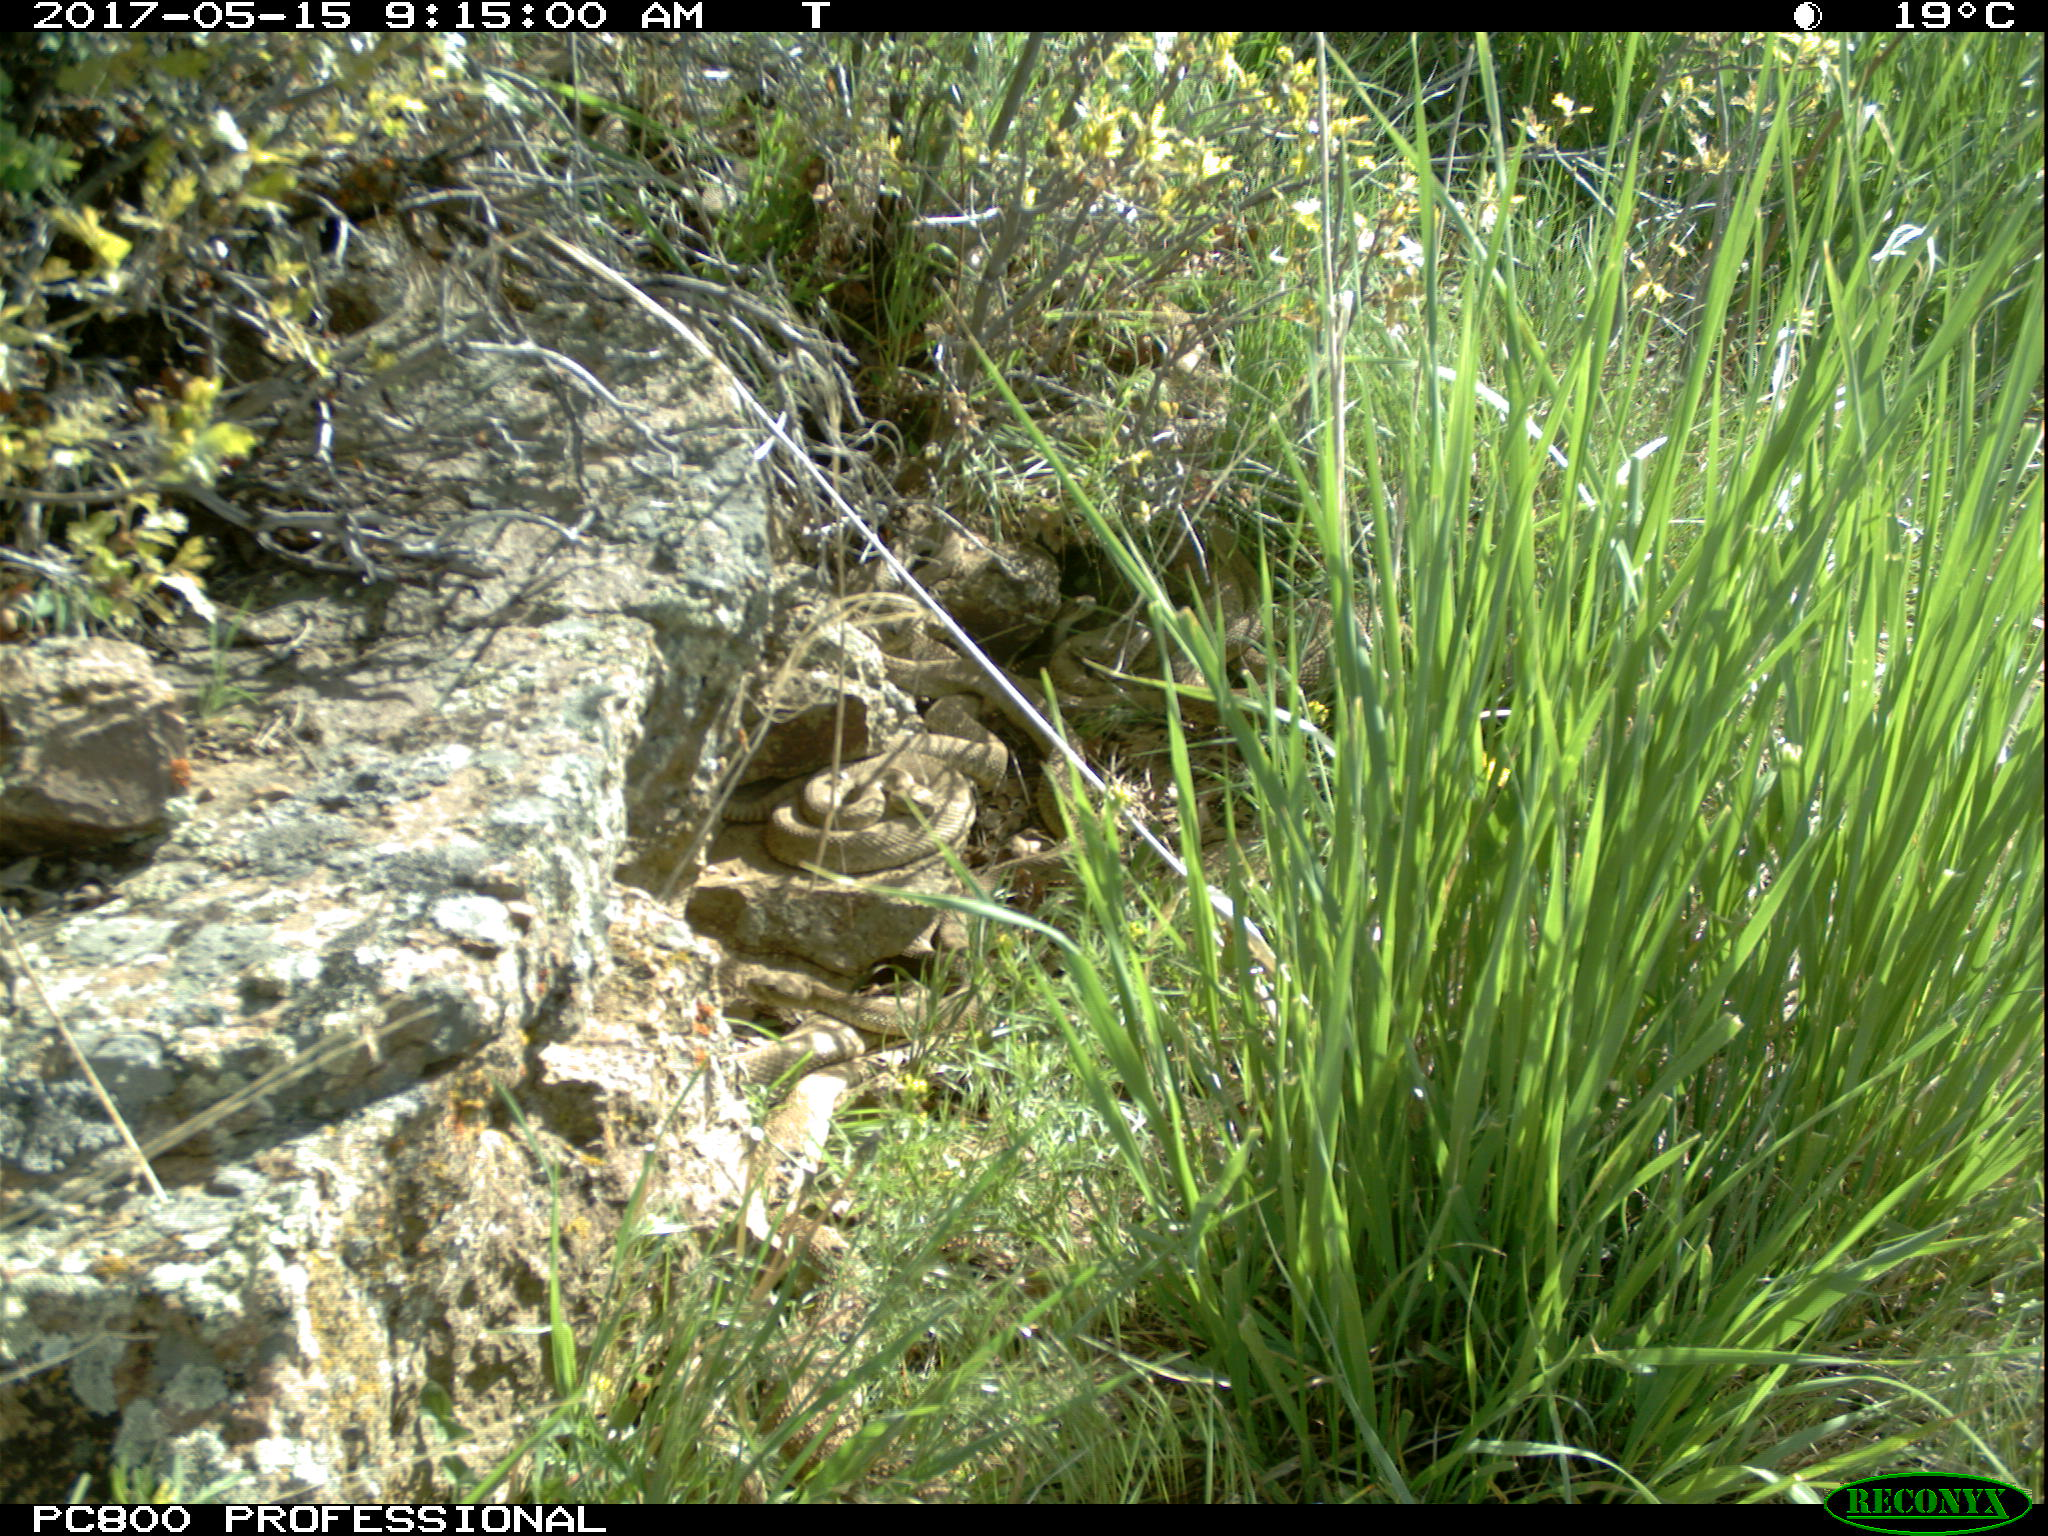snake: (753, 1049, 884, 1446), (735, 753, 987, 871), (1197, 553, 1371, 691), (876, 639, 1130, 724), (747, 963, 956, 1034), (729, 984, 866, 1073), (1051, 626, 1159, 712), (822, 578, 947, 649)
